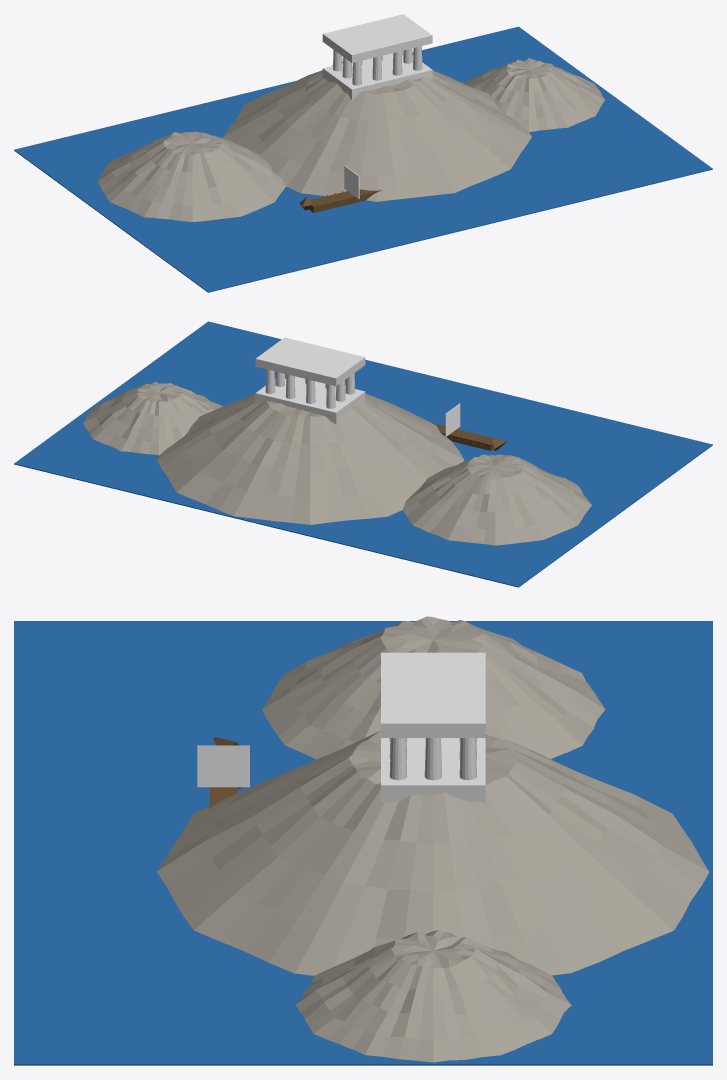
Rendered from grecia_bg_far.fbx.
3 views of the same model, one above another, from view 1: azimuth 30°, elevation 25°; view 2: azimuth 150°, elevation 25°; view 3: azimuth 270°, elevation 25° (orthographic). The views are drawn at different scales.
Visible parts, largest first — view 1: grecia_bg_far; view 2: grecia_bg_far; view 3: grecia_bg_far.
Boxes of the visible parts, left/top/right/bottom form: grecia_bg_far: left=14, top=14, right=712, bottom=292; grecia_bg_far: left=14, top=321, right=712, bottom=587; grecia_bg_far: left=14, top=616, right=712, bottom=1065.
Size of the model in its own units: 60 by 11.95 by 40.
